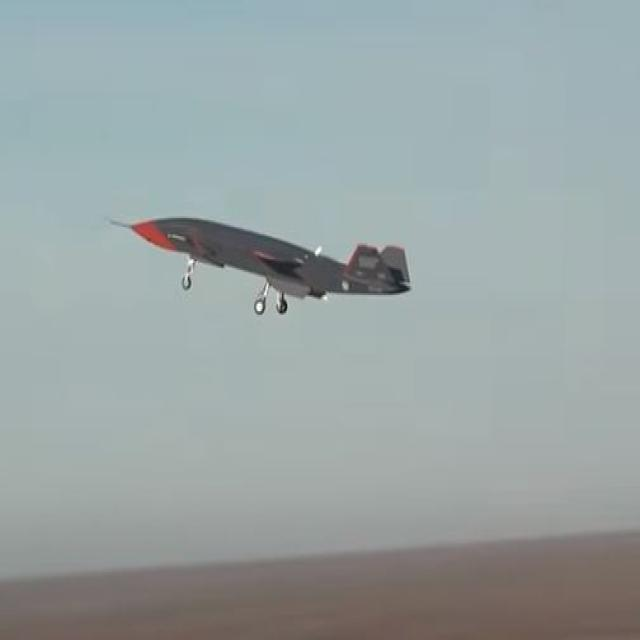iha: (109, 234, 413, 283)
